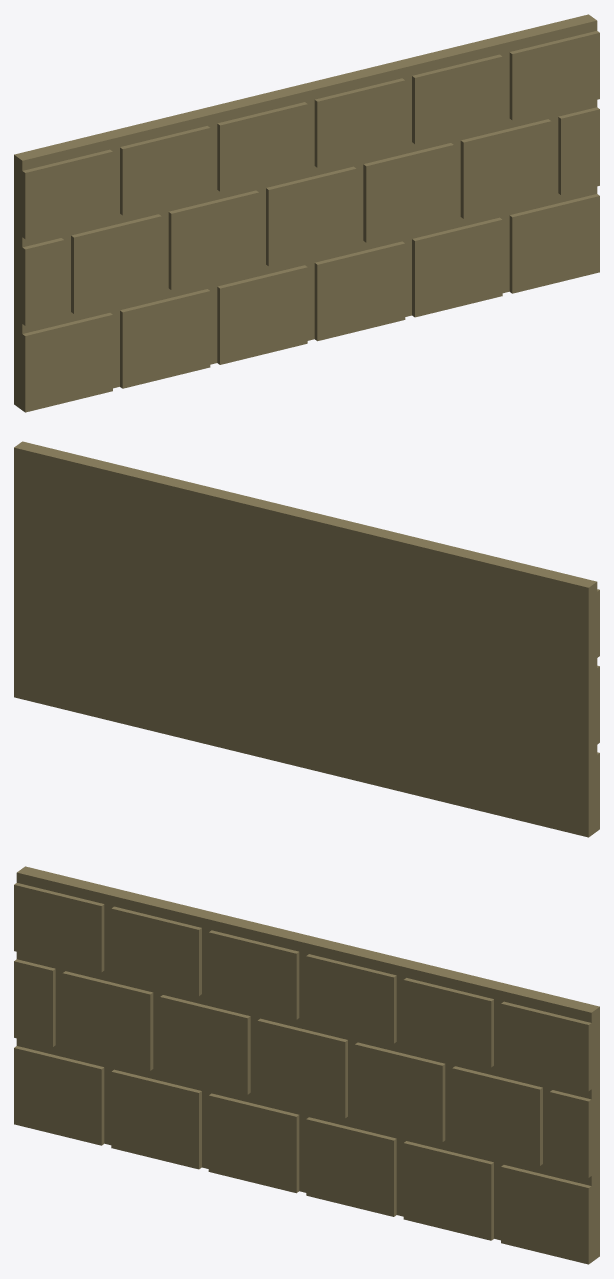
File: Wall1.obj
3 renders of one model, top to bottom at view 1: azimuth 30°, elevation 25°; view 2: azimuth 150°, elevation 25°; view 3: azimuth 330°, elevation 25°, orthographic.
Size of the model in its own units: 11.8 by 4.9 by 0.4.
Materials: 1 (1 with a texture image).
